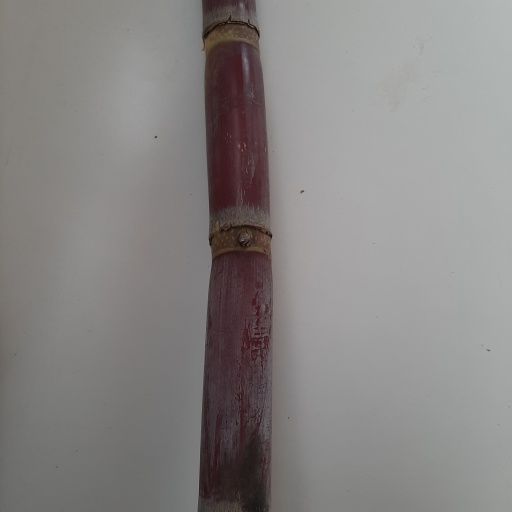Bud: (237, 226, 252, 248)
